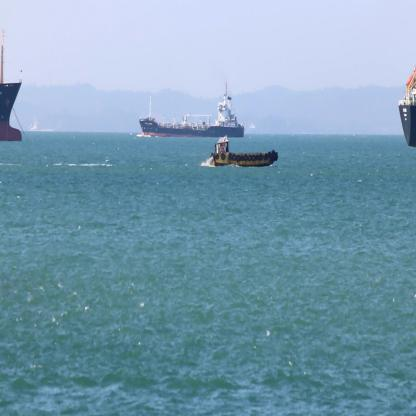Container Ship: (139, 79, 245, 138), (0, 29, 22, 142), (398, 65, 415, 148)
